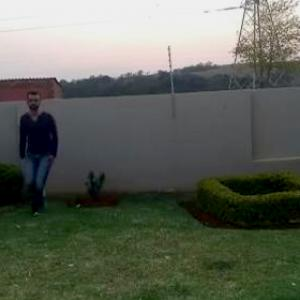follow: (18, 91, 69, 206)
